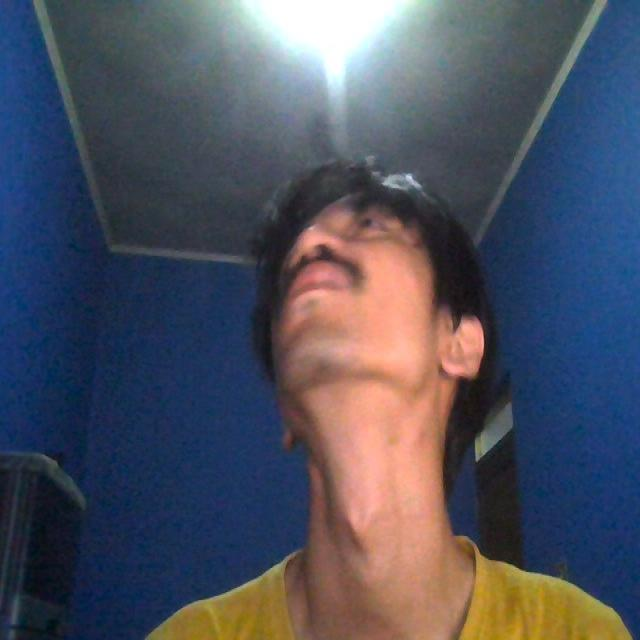Melihat kekanan: (198, 137, 534, 473)
